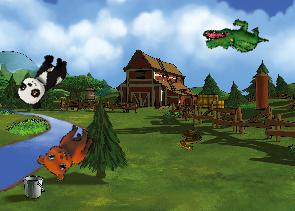bear: (33, 115, 97, 185)
crocodile: (200, 10, 269, 65)
panda: (11, 47, 73, 113)
